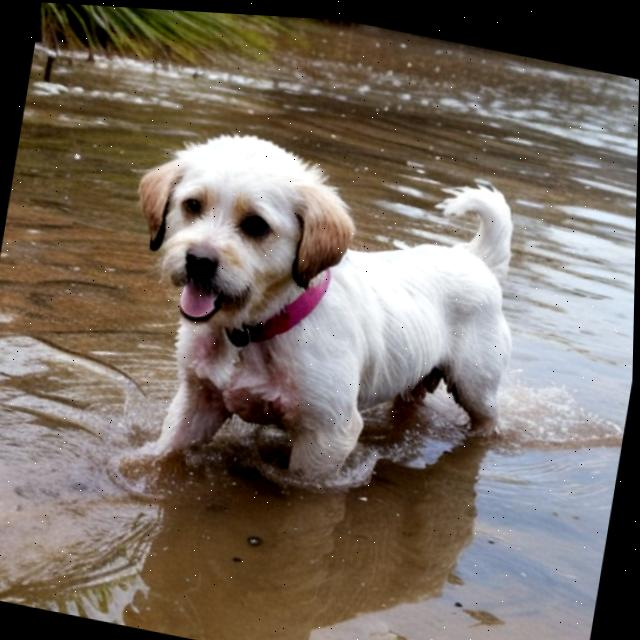dog: (65, 103, 551, 563)
